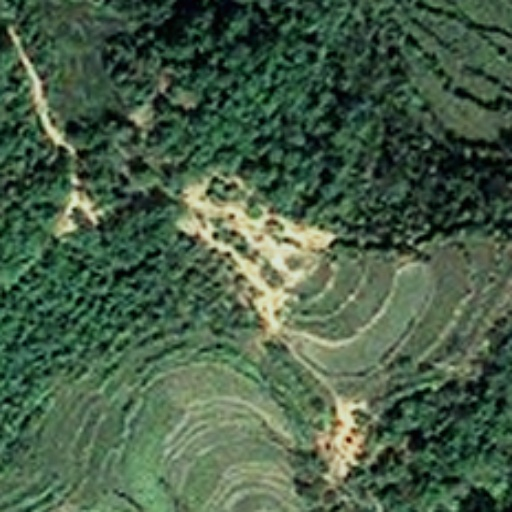landslide: (167, 170, 331, 317), (312, 392, 375, 479)
